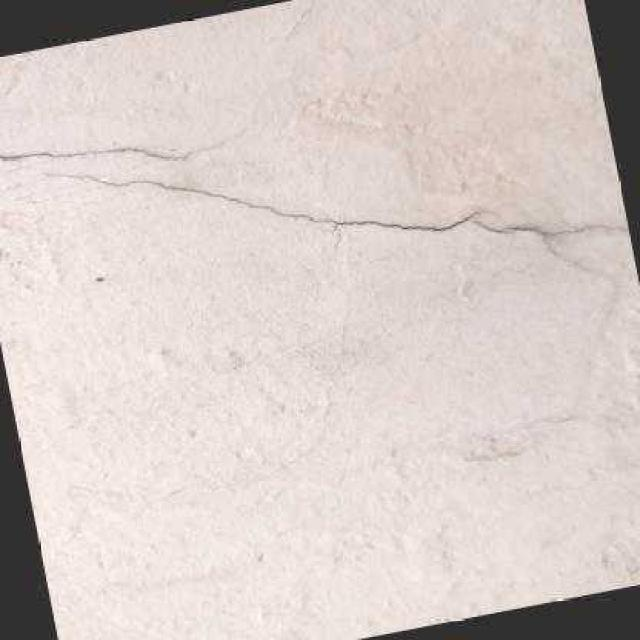D00: (44, 173, 500, 234), (470, 218, 629, 238), (0, 146, 190, 161)
